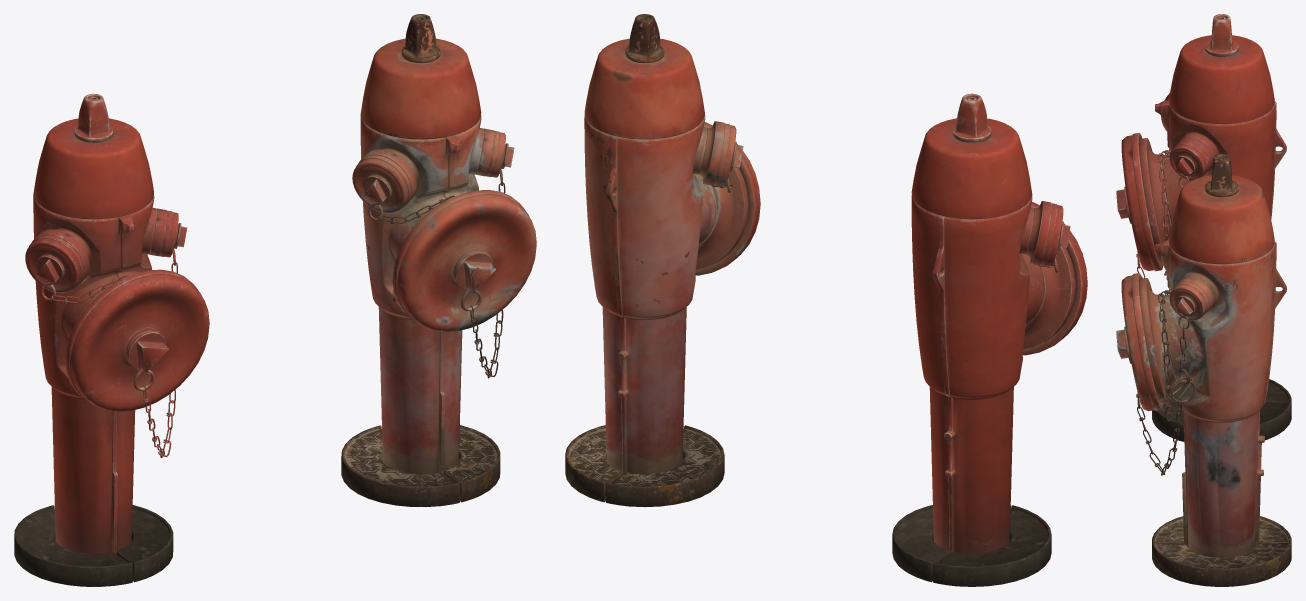
The model's file is fire_hydrant.glb.
The picture shows the model from 3 angles, left to right: view 1: azimuth 30°, elevation 25°; view 2: azimuth 150°, elevation 25°; view 3: azimuth 270°, elevation 25°; orthographic projection. The views are drawn at different scales.
Parts seen in each view (by area): view 1: fire_hydrant, fire_hydrant_aged; view 2: fire_hydrant, fire_hydrant_aged; view 3: fire_hydrant_aged, fire_hydrant.
Part boxes in pixels (x1,y1,x2,y2): fire_hydrant: (14,93,209,586); fire_hydrant_aged: (341,14,536,506); fire_hydrant: (892,93,1087,586); fire_hydrant_aged: (565,14,760,507); fire_hydrant_aged: (1116,154,1291,586); fire_hydrant: (1116,14,1291,441).
Bounding box in the file's own units: 0.8747 × 0.7995 × 0.3178.
Materials: 2 (2 with a texture image).
